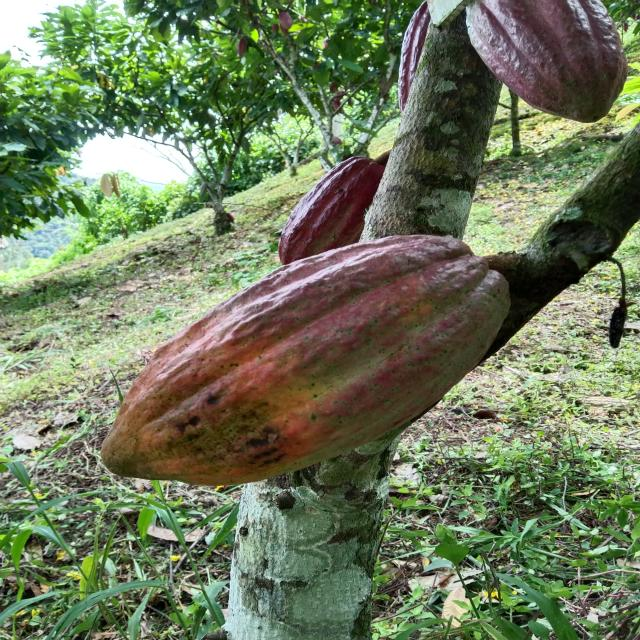Fitoftora: (88, 233, 511, 481)
Sana: (462, 0, 628, 117), (276, 152, 386, 262)
